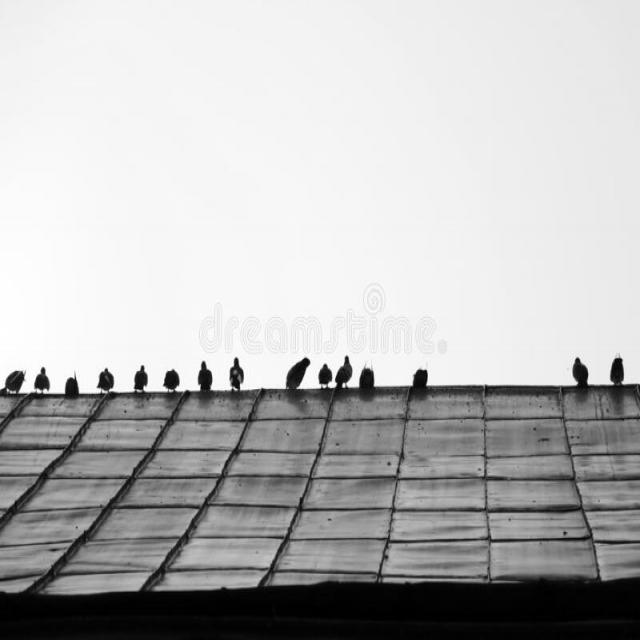bird: (285, 356, 311, 389), (335, 355, 353, 390), (4, 370, 26, 395), (572, 357, 589, 388), (96, 367, 115, 393), (610, 354, 624, 386), (162, 368, 180, 392), (359, 364, 375, 389), (134, 364, 148, 392), (318, 363, 332, 389), (65, 376, 79, 397)
